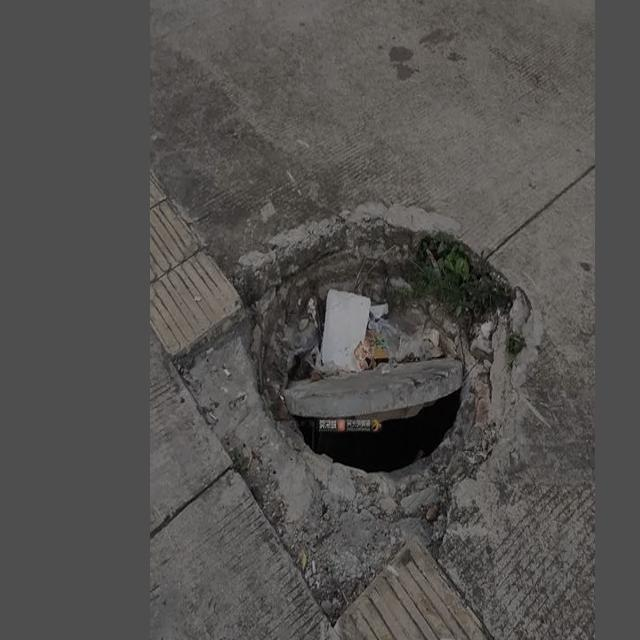circle: (192, 192, 556, 597)
